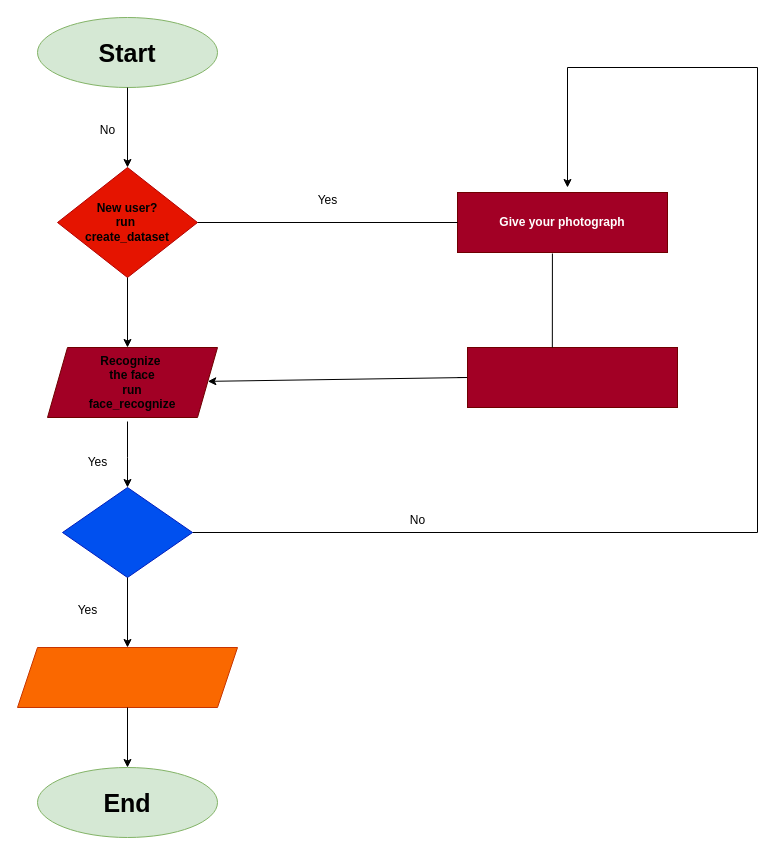
Image size: 783x855. Some labels were removed from this diagram. The shapes that lost their labels are listed below. From the top down, each one's box as (x1, y1, x2, y2) in pixels, then its label:
(466, 346, 678, 408): store the face data in the folder on your name
(62, 486, 192, 578): Face Recognized
(16, 646, 238, 708): Store in CSV file with registration Number and Date-time of entry
